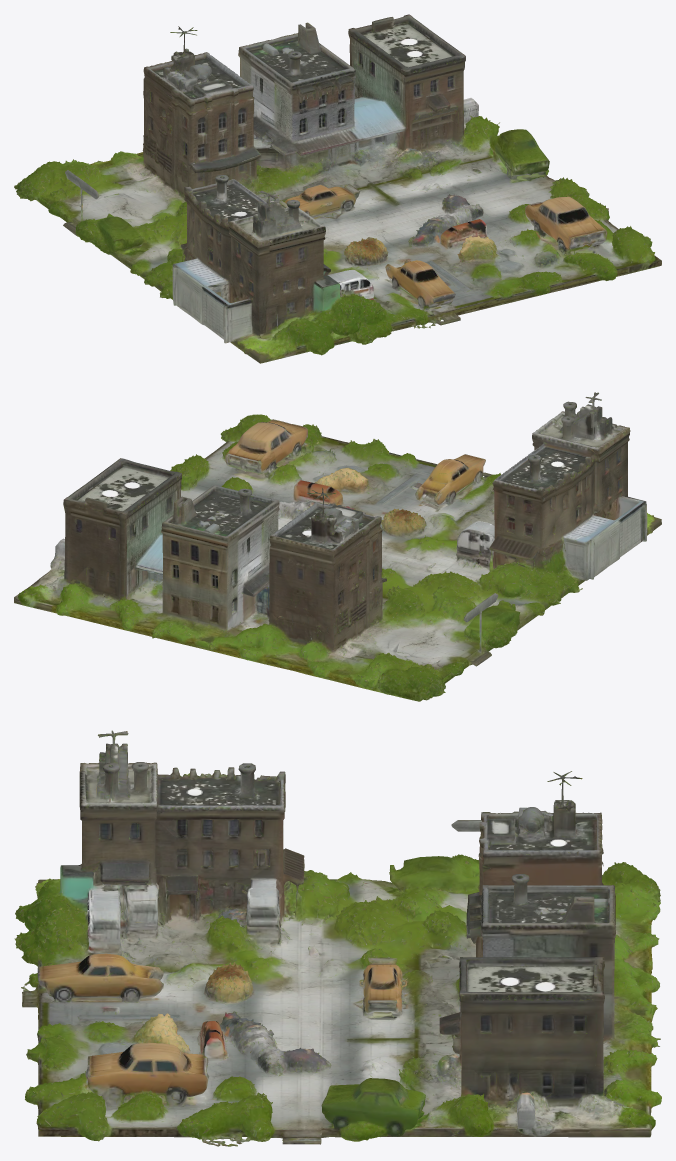
The model's file is map_piece_two.glb.
3 renders of one model, top to bottom at view 1: azimuth 30°, elevation 25°; view 2: azimuth 150°, elevation 25°; view 3: azimuth 270°, elevation 25°, orthographic. The views are drawn at different scales.
Parts seen in each view (by area): view 1: Mesh1.0; view 2: Mesh1.0; view 3: Mesh1.0.
Boxes of the visible parts, x1,y1,x2,y2 form: Mesh1.0: (14,14,661,363); Mesh1.0: (14,392,661,701); Mesh1.0: (14,730,661,1146).
Bounding box in the file's own units: 1.87 × 0.618 × 1.9.
1 material, 1 textured.
